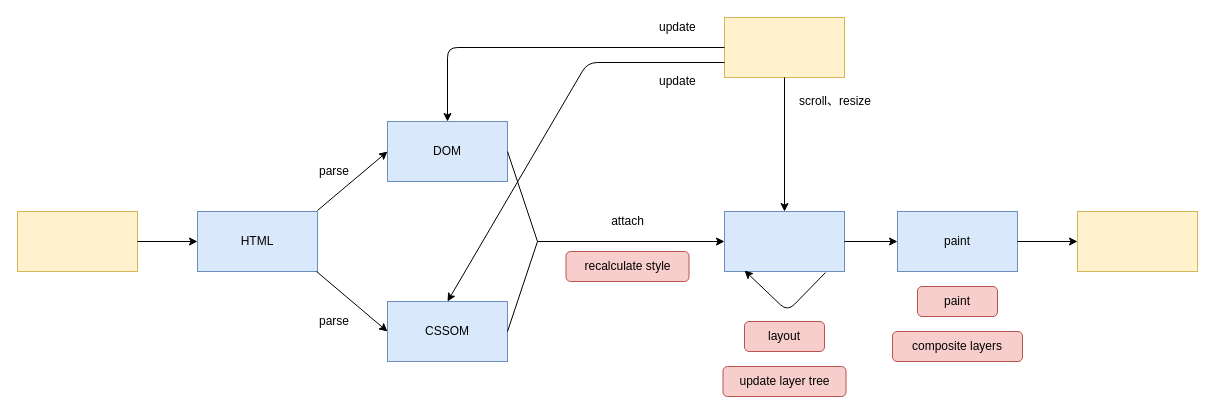
Some shapes in this 1215 by 414 pixel diagram are drawn without their labels. Each missing label, with the box of its shape:
init: (16, 210, 138, 272)
render tree: (724, 210, 844, 272)
script / DOM event: (724, 16, 844, 78)
view: (1076, 210, 1198, 272)
